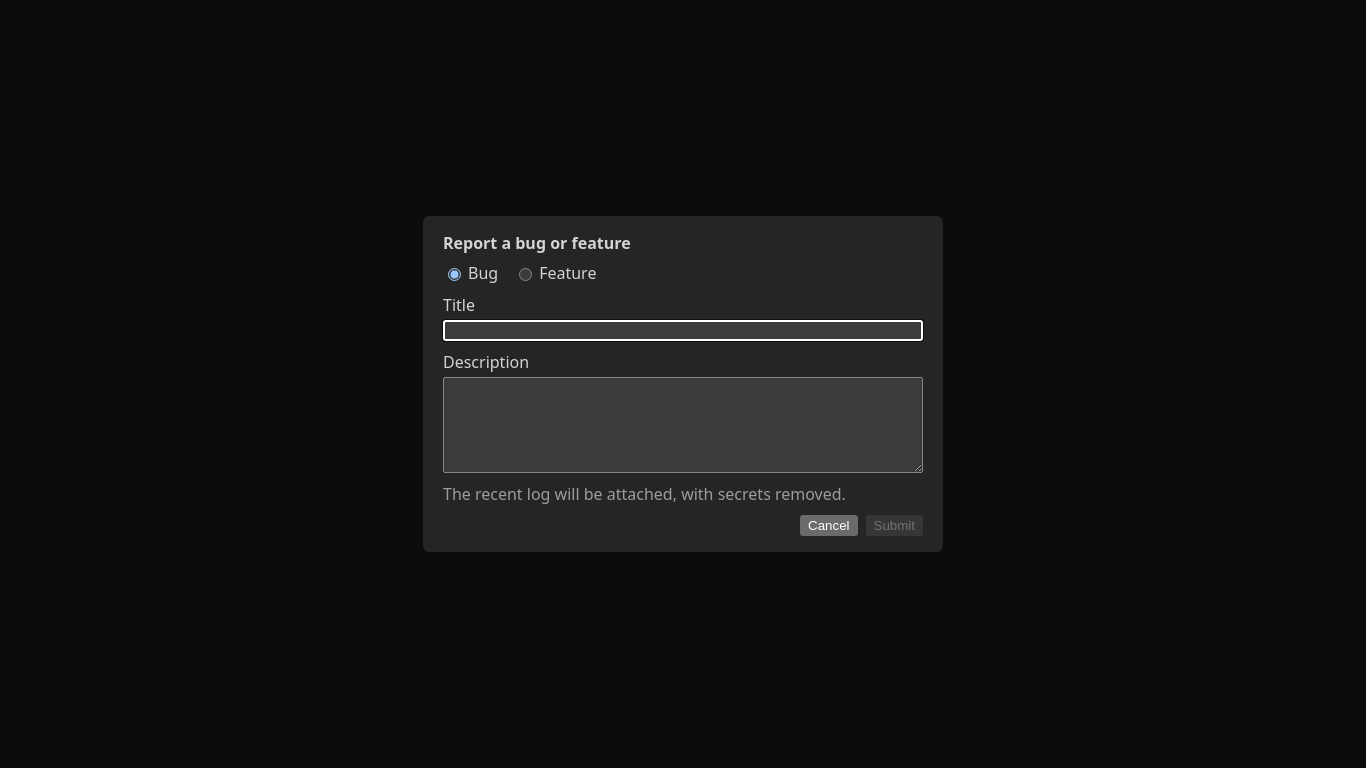
Test: ReportDialog › hides the log note for a feature
The width and height of the screenshot is (1366, 768).
Click the radio button labelled "Feature". click: (526, 274)
box: x1=519 y1=268 x2=532 y2=281
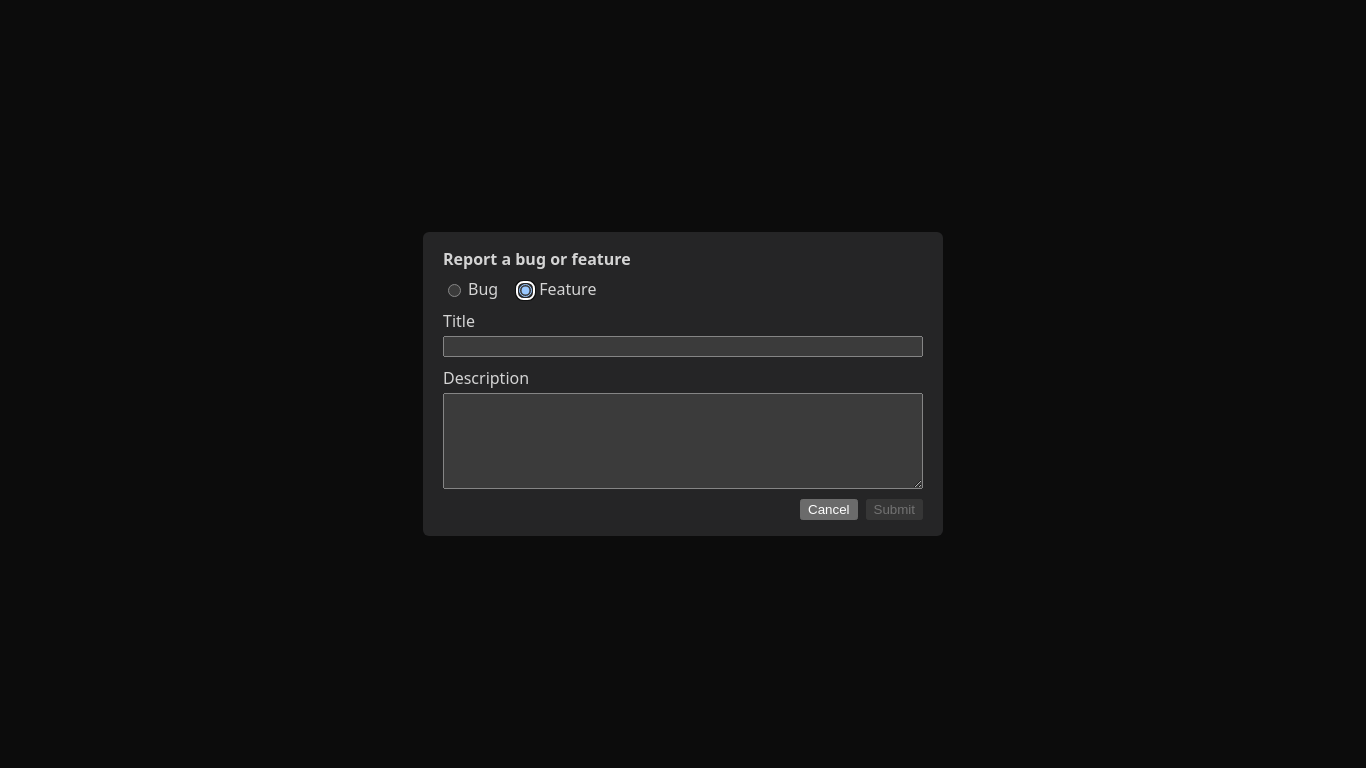
expect the text "recent log will be attached" is gone: met
